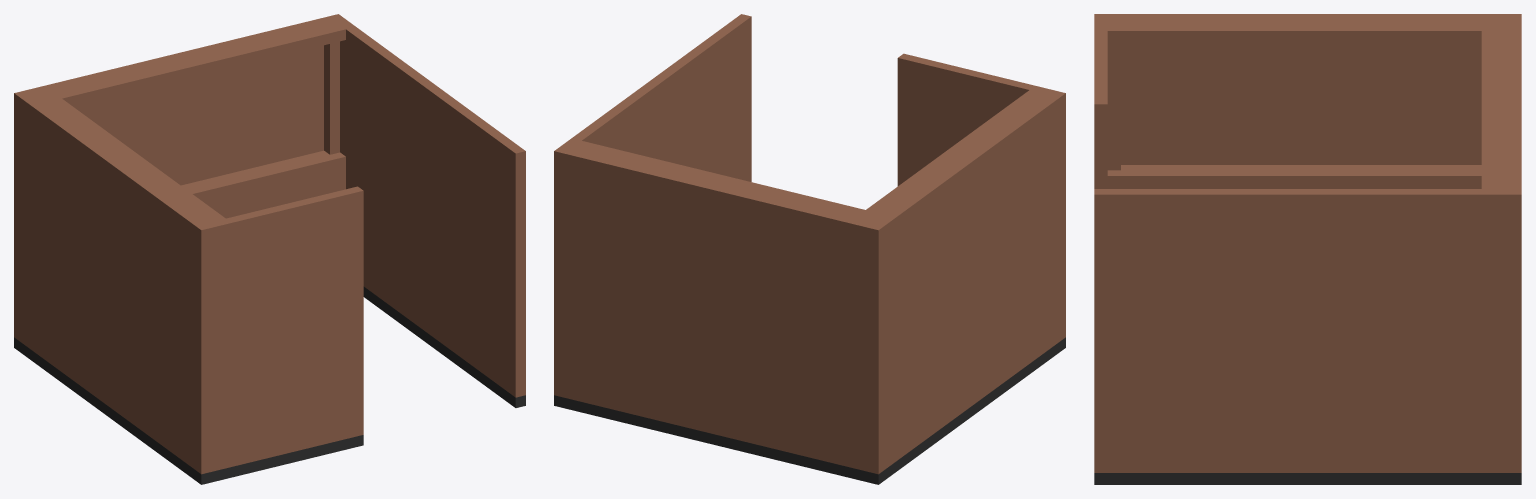
Rendered from Office_Cubicle_Light_05.obj.
3 renders of one model, left to right at view 1: azimuth 30°, elevation 25°; view 2: azimuth 150°, elevation 25°; view 3: azimuth 270°, elevation 25°, orthographic. The views are drawn at different scales.
Bounding box in the file's own units: 3.2 × 2.4 × 3.2.
1 material, 1 textured.
